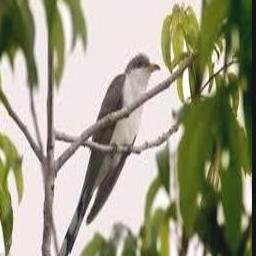Cuckoo: (54, 52, 161, 256)
